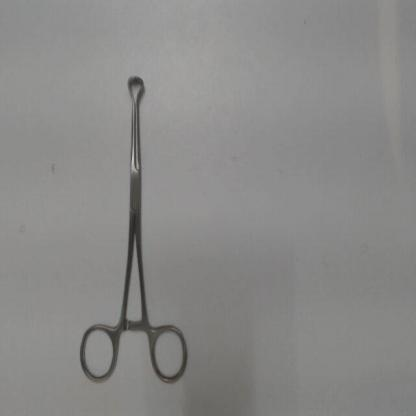Babcock Tissue Forceps: (79, 69, 193, 389)
